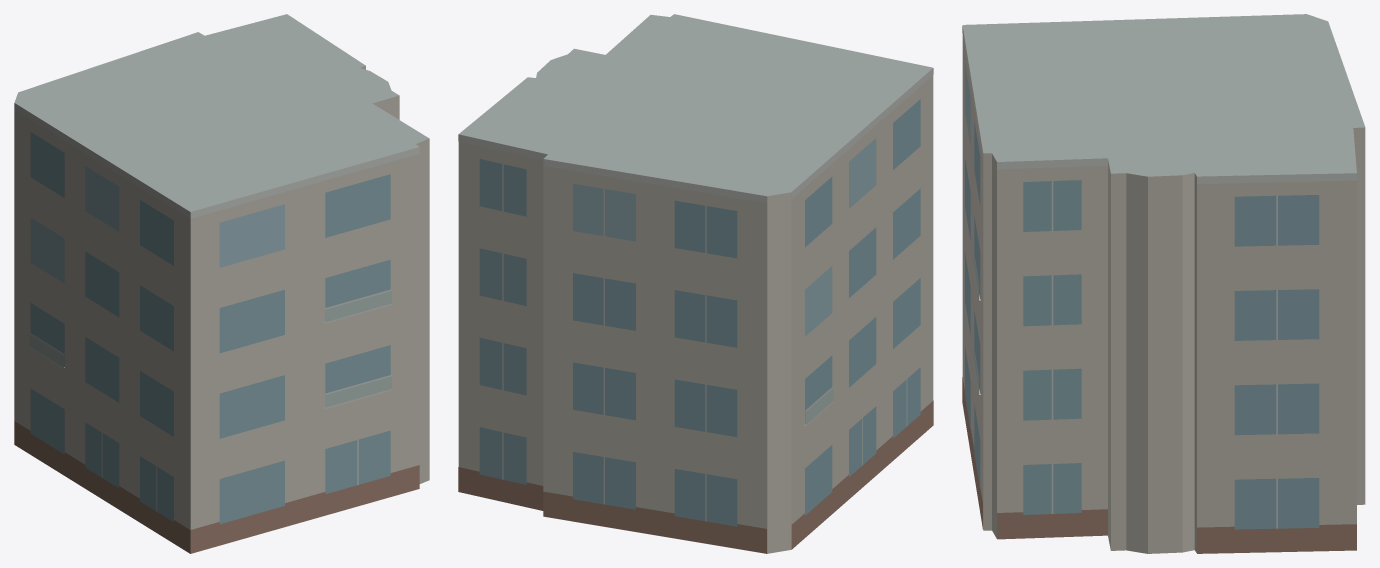
Rendered from survey-upis-32633380.glb.
3 renders of one model, left to right at view 1: azimuth 30°, elevation 25°; view 2: azimuth 150°, elevation 25°; view 3: azimuth 270°, elevation 25°, orthographic. The views are drawn at different scales.
Visible parts, largest first — view 1: survey-upis-32633380.tmp; view 2: survey-upis-32633380.tmp; view 3: survey-upis-32633380.tmp.
Boxes of the visible parts, x1=… form: survey-upis-32633380.tmp: x1=14, y1=14, x2=429, y2=553; survey-upis-32633380.tmp: x1=458, y1=14, x2=933, y2=553; survey-upis-32633380.tmp: x1=962, y1=14, x2=1365, y2=553.
Size of the model in its own units: 11.47 by 12.4 by 12.01.
